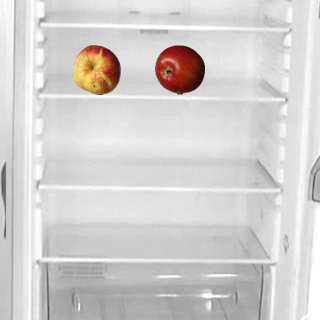Apple Braeburn: (154, 44, 204, 94)
Apple Red Yellow 1: (71, 44, 121, 94)
